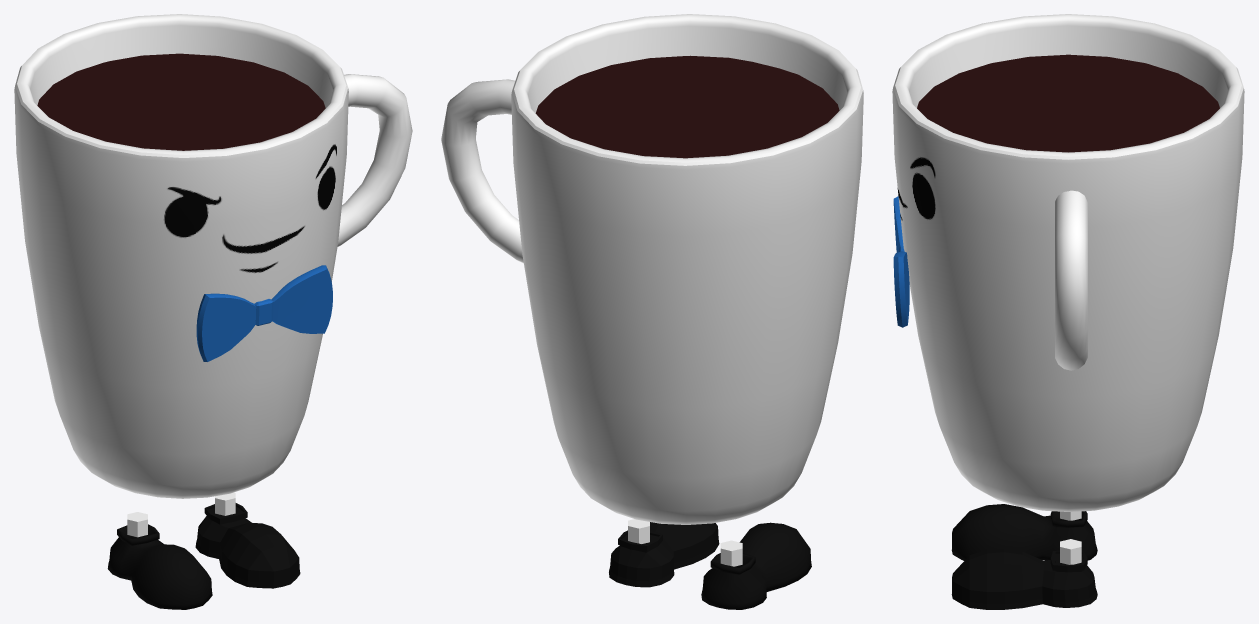
The model's file is Mug_v1.FBX.
The picture shows the model from 3 angles, left to right: view 1: azimuth 30°, elevation 25°; view 2: azimuth 150°, elevation 25°; view 3: azimuth 270°, elevation 25°; orthographic projection. The views are drawn at different scales.
Parts seen in each view (by area): view 1: body, Plano_cafe, Pajarita, Agarre, Bot_izq, Bot_der; view 2: body, Plano_cafe, Agarre, Bot_der, Bot_izq; view 3: body, Plano_cafe, Bot_izq, Agarre, Bot_der, Pajarita, Pierna_izq.
Boxes of the visible parts, left/top/right/bottom form: body: left=14, top=14, right=348, bottom=498; Plano_cafe: left=37, top=53, right=325, bottom=150; Pajarita: left=196, top=265, right=332, bottom=361; Agarre: left=337, top=74, right=412, bottom=246; Bot_izq: left=195, top=503, right=300, bottom=588; Bot_der: left=107, top=524, right=212, bottom=609; body: left=511, top=14, right=863, bottom=524; Plano_cafe: left=535, top=55, right=839, bottom=158; Agarre: left=441, top=79, right=523, bottom=263; Bot_der: left=701, top=522, right=811, bottom=609; Bot_izq: left=609, top=522, right=719, bottom=587; body: left=892, top=14, right=1244, bottom=511; Plano_cafe: left=917, top=54, right=1219, bottom=152; Bot_izq: left=951, top=548, right=1097, bottom=609; Agarre: left=1055, top=190, right=1087, bottom=370; Bot_der: left=951, top=504, right=1097, bottom=560; Pajarita: left=893, top=196, right=909, bottom=327; Pierna_izq: left=1060, top=539, right=1081, bottom=564.
Size of the model in its own units: 41.78 by 50.42 by 33.
5 materials, 1 textured.
